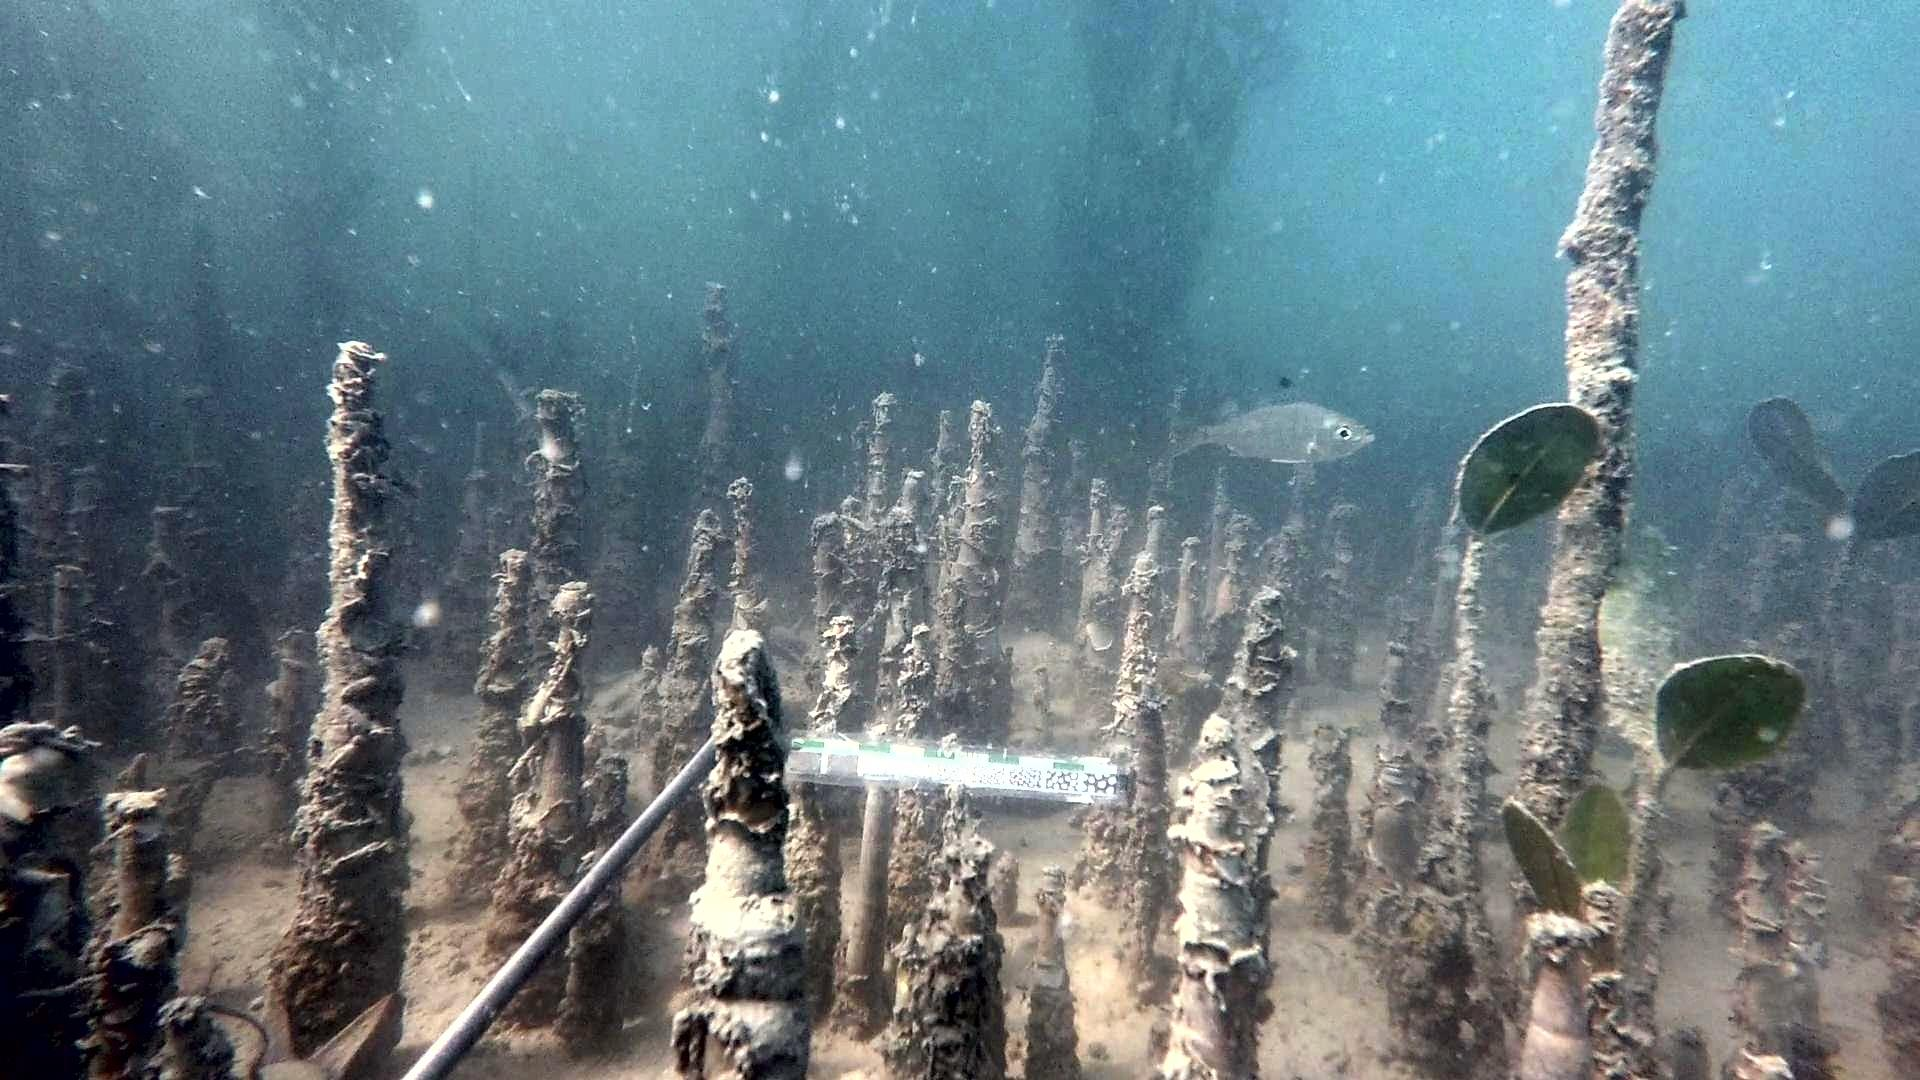gerres: (1162, 375, 1379, 465)
